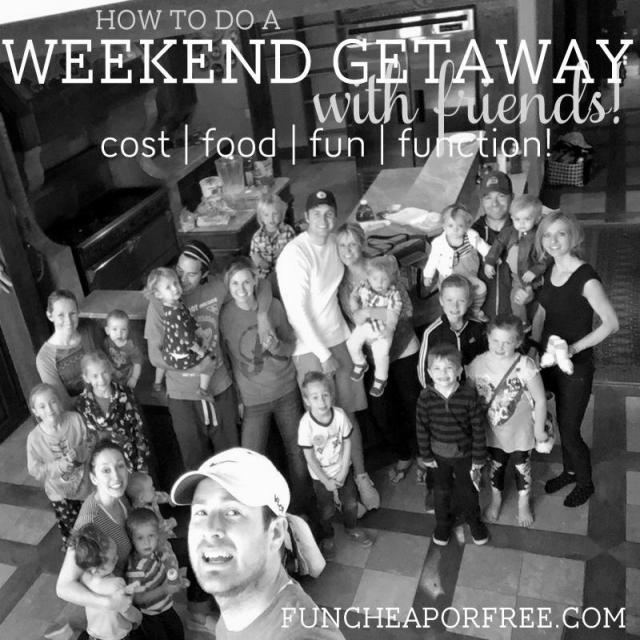person: (166, 445, 381, 640), (520, 208, 618, 512), (217, 252, 310, 530), (184, 462, 317, 640), (276, 183, 354, 462), (469, 313, 554, 530), (142, 260, 222, 479), (414, 344, 491, 550), (296, 371, 378, 548), (71, 434, 163, 576), (77, 352, 162, 493), (50, 520, 146, 640), (26, 382, 94, 548), (109, 505, 188, 640), (36, 288, 108, 408), (351, 249, 402, 381), (415, 207, 480, 284), (463, 160, 512, 258), (250, 191, 298, 290), (102, 310, 145, 393), (171, 239, 215, 310), (432, 279, 486, 334), (328, 221, 368, 268), (504, 192, 546, 232)
